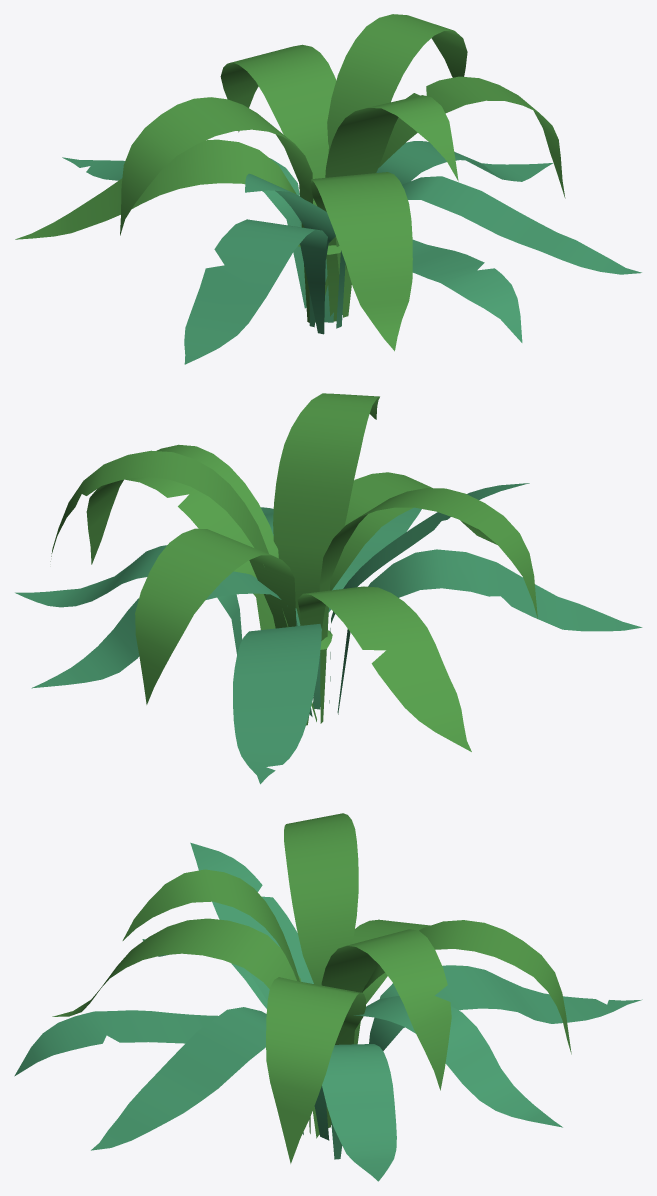
Rendered from plant_dracaena_D.fbx.
3 views of the same model, one above another, from view 1: azimuth 30°, elevation 25°; view 2: azimuth 150°, elevation 25°; view 3: azimuth 270°, elevation 25° (orthographic). The views are drawn at different scales.
Visible parts, largest first — view 1: plant_dracaena_D_leaf_E, plant_dracaena_D_leaf_L, plant_dracaena_D_leaf_D, plant_dracaena_D_leaf_B, plant_dracaena_D_leaf_A, plant_dracaena_D_leaf_H, plant_dracaena_D_leaf_C, plant_dracaena_D_leaf_I, plant_dracaena_D_leaf_M, plant_dracaena_D_leaf_F, plant_dracaena_D_leaf_N, plant_dracaena_D_leaf_K (+1 smaller); view 2: plant_dracaena_D_leaf_C, plant_dracaena_D_leaf_D, plant_dracaena_D_leaf_H, plant_dracaena_D_leaf_K, plant_dracaena_D_leaf_L, plant_dracaena_D_leaf_F, plant_dracaena_D_leaf_A, plant_dracaena_D_leaf_B, plant_dracaena_D_leaf_J, plant_dracaena_D_leaf_E, plant_dracaena_D_leaf_N, plant_dracaena_D_leaf_G (+1 smaller); view 3: plant_dracaena_D_leaf_F, plant_dracaena_D_leaf_I, plant_dracaena_D_leaf_A, plant_dracaena_D_leaf_B, plant_dracaena_D_leaf_N, plant_dracaena_D_leaf_E, plant_dracaena_D_leaf_K, plant_dracaena_D_leaf_J, plant_dracaena_D_leaf_M, plant_dracaena_D_leaf_C, plant_dracaena_D_leaf_D, plant_dracaena_D_leaf_G (+1 smaller).
Boxes of the visible parts, x1,y1,x2,y2 form: plant_dracaena_D_leaf_E: (310,172,412,351); plant_dracaena_D_leaf_L: (184,219,327,364); plant_dracaena_D_leaf_D: (220,44,336,205); plant_dracaena_D_leaf_B: (315,14,467,321); plant_dracaena_D_leaf_A: (120,97,313,322); plant_dracaena_D_leaf_H: (15,139,300,239); plant_dracaena_D_leaf_C: (325,95,458,317); plant_dracaena_D_leaf_I: (402,176,641,274); plant_dracaena_D_leaf_M: (336,239,522,342); plant_dracaena_D_leaf_F: (375,76,565,198); plant_dracaena_D_leaf_N: (376,141,552,184); plant_dracaena_D_leaf_K: (62,157,306,308); plant_dracaena_D_leaf_C: (273,393,379,623); plant_dracaena_D_leaf_D: (135,528,296,704); plant_dracaena_D_leaf_H: (297,586,471,751); plant_dracaena_D_leaf_K: (233,624,321,784); plant_dracaena_D_leaf_L: (337,549,642,714); plant_dracaena_D_leaf_F: (86,444,278,629); plant_dracaena_D_leaf_A: (319,488,537,723); plant_dracaena_D_leaf_B: (50,450,316,721); plant_dracaena_D_leaf_J: (31,571,312,716); plant_dracaena_D_leaf_E: (330,472,497,590); plant_dracaena_D_leaf_N: (15,545,242,654); plant_dracaena_D_leaf_G: (329,483,529,703); plant_dracaena_D_leaf_F: (266,977,365,1163); plant_dracaena_D_leaf_I: (91,1007,329,1150); plant_dracaena_D_leaf_A: (284,813,358,985); plant_dracaena_D_leaf_B: (321,929,451,1127); plant_dracaena_D_leaf_N: (322,1044,396,1181); plant_dracaena_D_leaf_E: (52,918,319,1138); plant_dracaena_D_leaf_K: (369,965,642,1050); plant_dracaena_D_leaf_J: (326,996,562,1127); plant_dracaena_D_leaf_M: (14,1010,303,1134); plant_dracaena_D_leaf_C: (122,869,310,1133); plant_dracaena_D_leaf_D: (323,920,571,1136); plant_dracaena_D_leaf_G: (190,842,313,1000).
Size of the model in its own units: 125 by 62.59 by 136.
